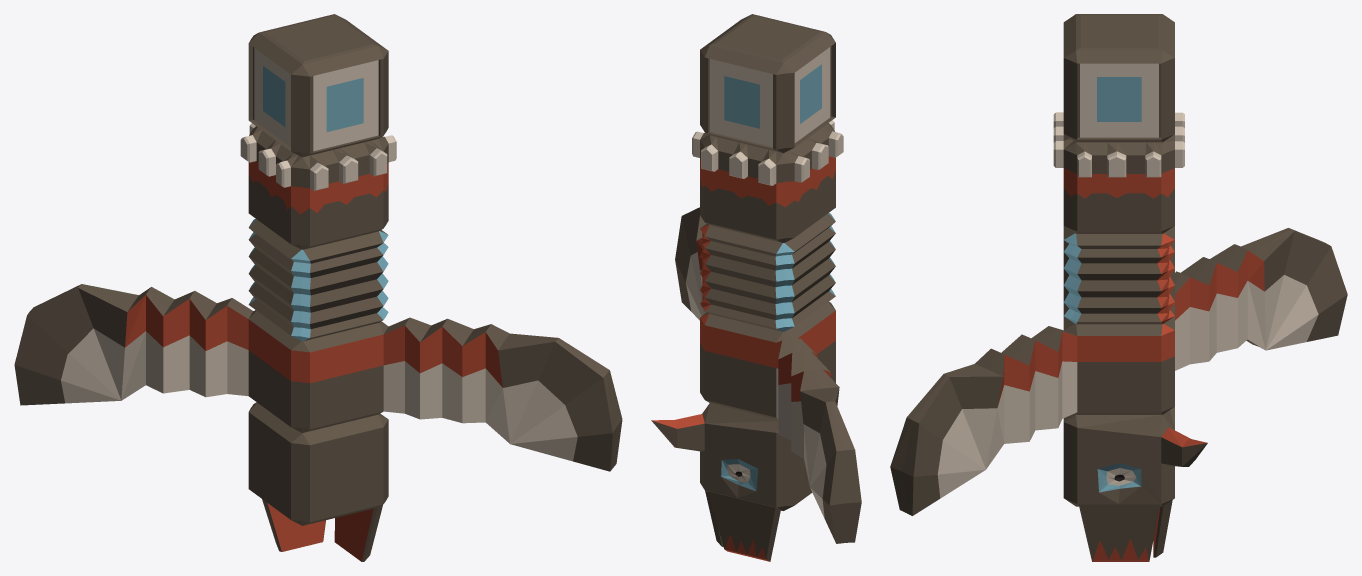
The model's file is Totem.fbx.
The picture shows the model from 3 angles, left to right: view 1: azimuth 30°, elevation 25°; view 2: azimuth 150°, elevation 25°; view 3: azimuth 270°, elevation 25°; orthographic projection. The views are drawn at different scales.
Parts seen in each view (by area): view 1: Würfel_3, Würfel, Würfel_4, Würfel_1, Würfel_2; view 2: Würfel_3, Würfel, Würfel_4, Würfel_1, Würfel_2; view 3: Würfel_3, Würfel_4, Würfel, Würfel_1, Würfel_2.
Part boxes in pixels (left/top/right/bottom): Würfel_3: left=14, top=284, right=622, bottom=471; Würfel: left=248, top=14, right=388, bottom=157; Würfel_4: left=248, top=402, right=388, bottom=561; Würfel_1: left=240, top=123, right=396, bottom=249; Würfel_2: left=248, top=218, right=388, bottom=341; Würfel_3: left=675, top=207, right=861, bottom=543; Würfel: left=700, top=14, right=835, bottom=153; Würfel_4: left=651, top=403, right=812, bottom=561; Würfel_1: left=692, top=120, right=843, bottom=242; Würfel_2: left=700, top=213, right=835, bottom=331; Würfel_3: left=890, top=228, right=1347, bottom=515; Würfel_4: left=1063, top=407, right=1207, bottom=561; Würfel: left=1063, top=14, right=1174, bottom=142; Würfel_1: left=1053, top=112, right=1184, bottom=233; Würfel_2: left=1063, top=226, right=1174, bottom=324.
Bounding box in the file's own units: 902 × 1124 × 904.
